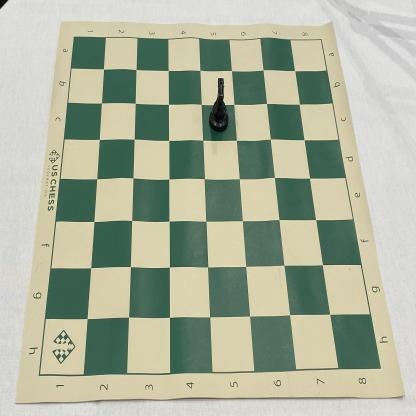black-knight: (209, 78, 228, 132)
